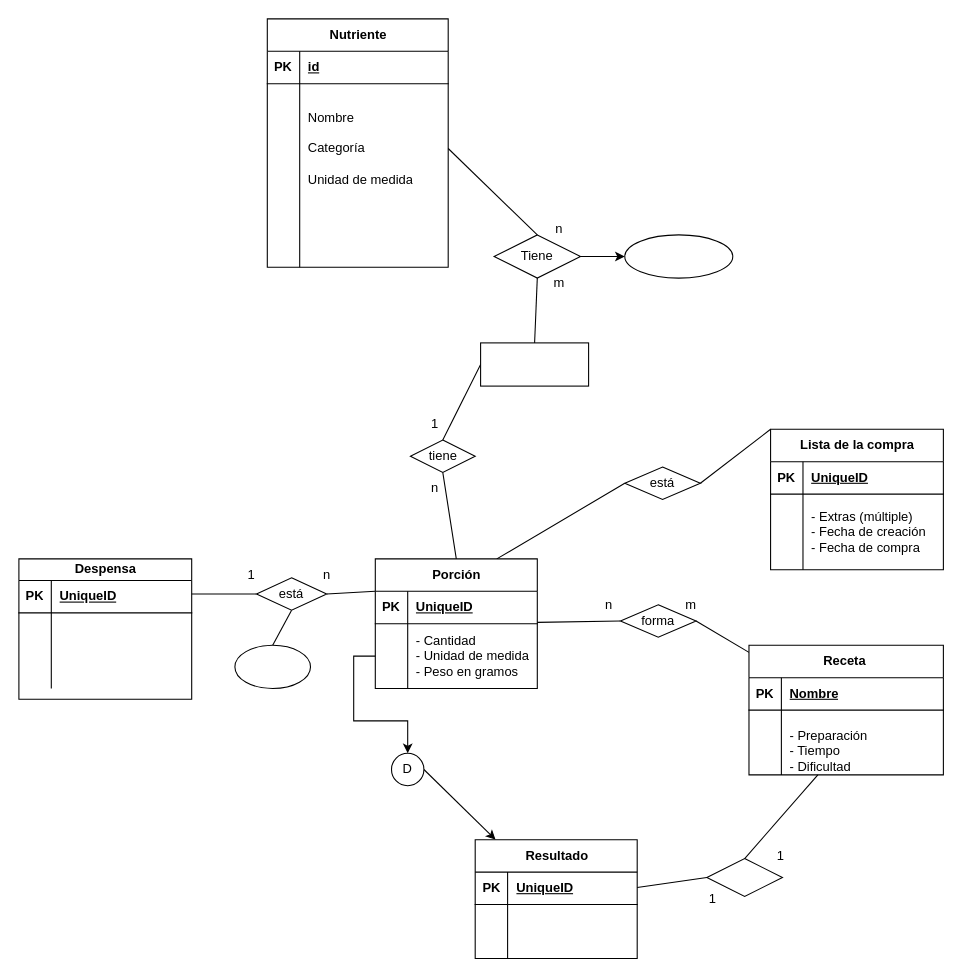
Some shapes in this 962 by 977 pixel diagram are drawn without their labels. Here are the shapes that lost their labels. From the top down, the centre of each, then its label:
At point 678,256: "Cantidad por 100g".
At point 534,364: "Alimento fundamental".
At point 272,666: "Fecha entrada".
